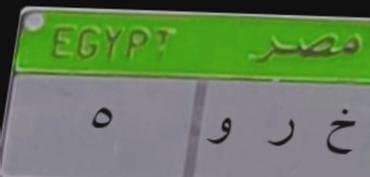5: (88, 96, 116, 140)
khaa: (322, 105, 359, 162)
raa: (262, 109, 298, 152)
waw: (199, 104, 236, 158)
